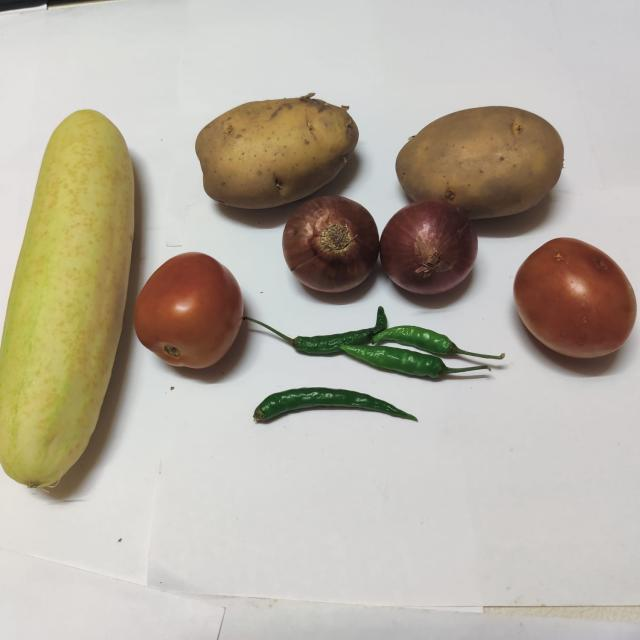Organik: (0, 102, 144, 529), (376, 98, 583, 225), (187, 82, 356, 215), (251, 304, 522, 386), (499, 237, 640, 376), (124, 248, 248, 396), (235, 380, 416, 442), (285, 192, 383, 300), (378, 205, 476, 293)
